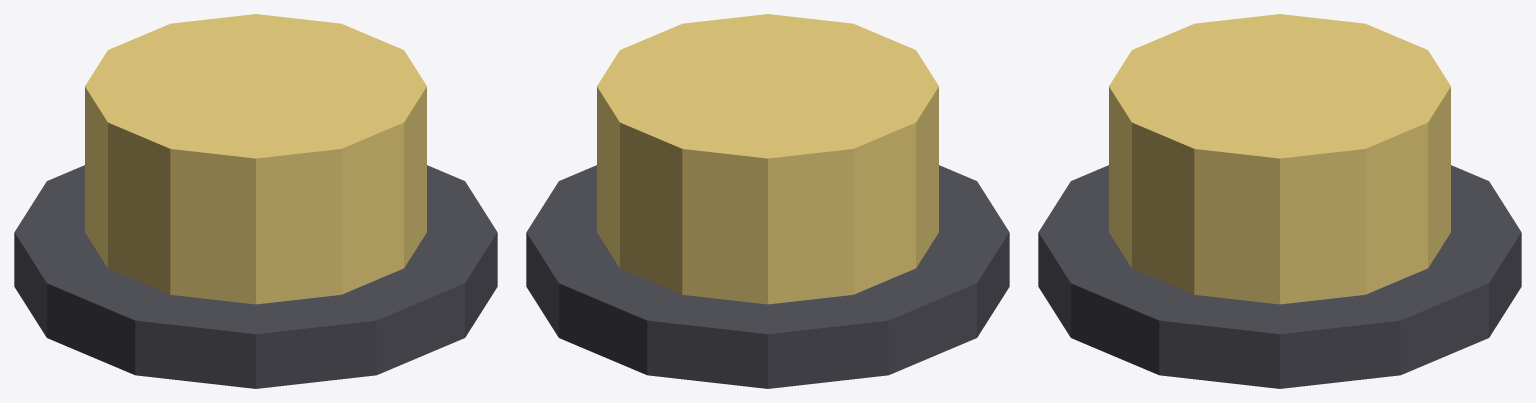
The model's file is sanctuary-pedestal.glb.
3 renders of one model, left to right at view 1: azimuth 30°, elevation 25°; view 2: azimuth 150°, elevation 25°; view 3: azimuth 270°, elevation 25°, orthographic.
Parts seen in each view (by area): view 1: Pedestal_Pillar, Pedestal_Tier1; view 2: Pedestal_Pillar, Pedestal_Tier1; view 3: Pedestal_Pillar, Pedestal_Tier1.
Boxes of the visible parts, <box> form: Pedestal_Pillar: <box>85,14,426,304</box>; Pedestal_Tier1: <box>14,165,497,388</box>; Pedestal_Pillar: <box>597,14,938,304</box>; Pedestal_Tier1: <box>526,165,1009,388</box>; Pedestal_Pillar: <box>1109,14,1450,304</box>; Pedestal_Tier1: <box>1038,165,1521,388</box>.
Bounding box in the file's own units: 2.4 × 1.1 × 2.4.
